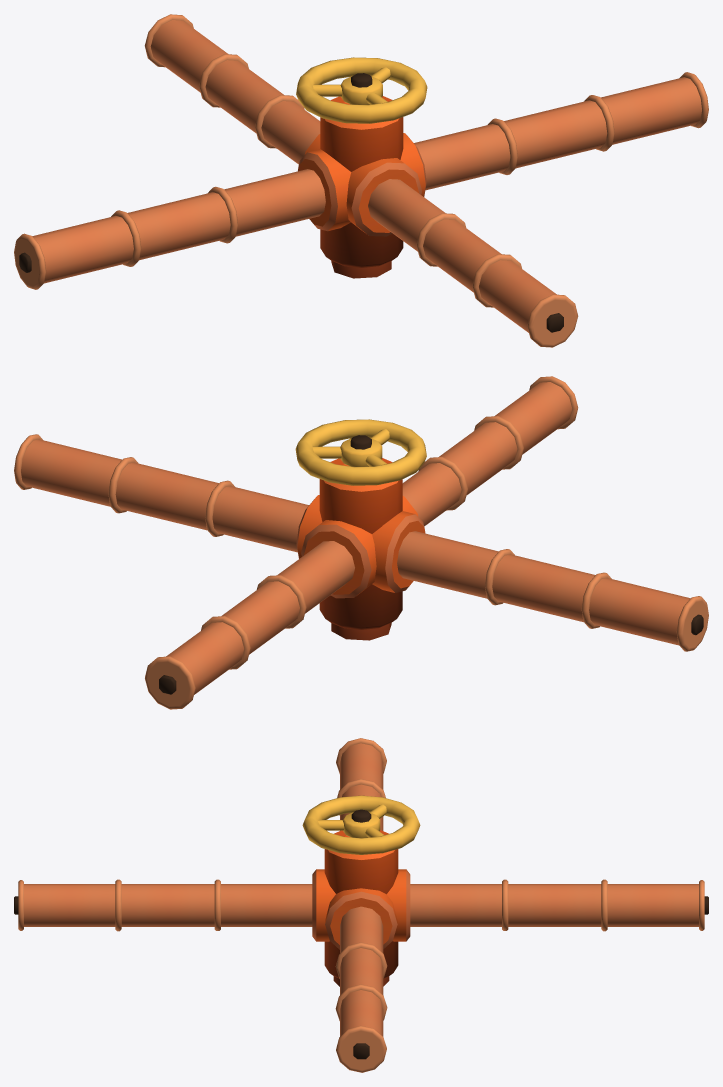
The model's file is obstacle_22_001.fbx.
3 views of the same model, one above another, from view 1: azimuth 30°, elevation 25°; view 2: azimuth 150°, elevation 25°; view 3: azimuth 270°, elevation 25° (orthographic). The views are drawn at different scales.
Visible parts, largest first — view 1: obstacle_22_001; view 2: obstacle_22_001; view 3: obstacle_22_001.
Boxes of the visible parts, <box> form: obstacle_22_001: <box>14,14,708,347</box>; obstacle_22_001: <box>14,376,708,709</box>; obstacle_22_001: <box>14,738,708,1072</box>.
Size of the model in its own units: 1384 by 1384 by 370.
